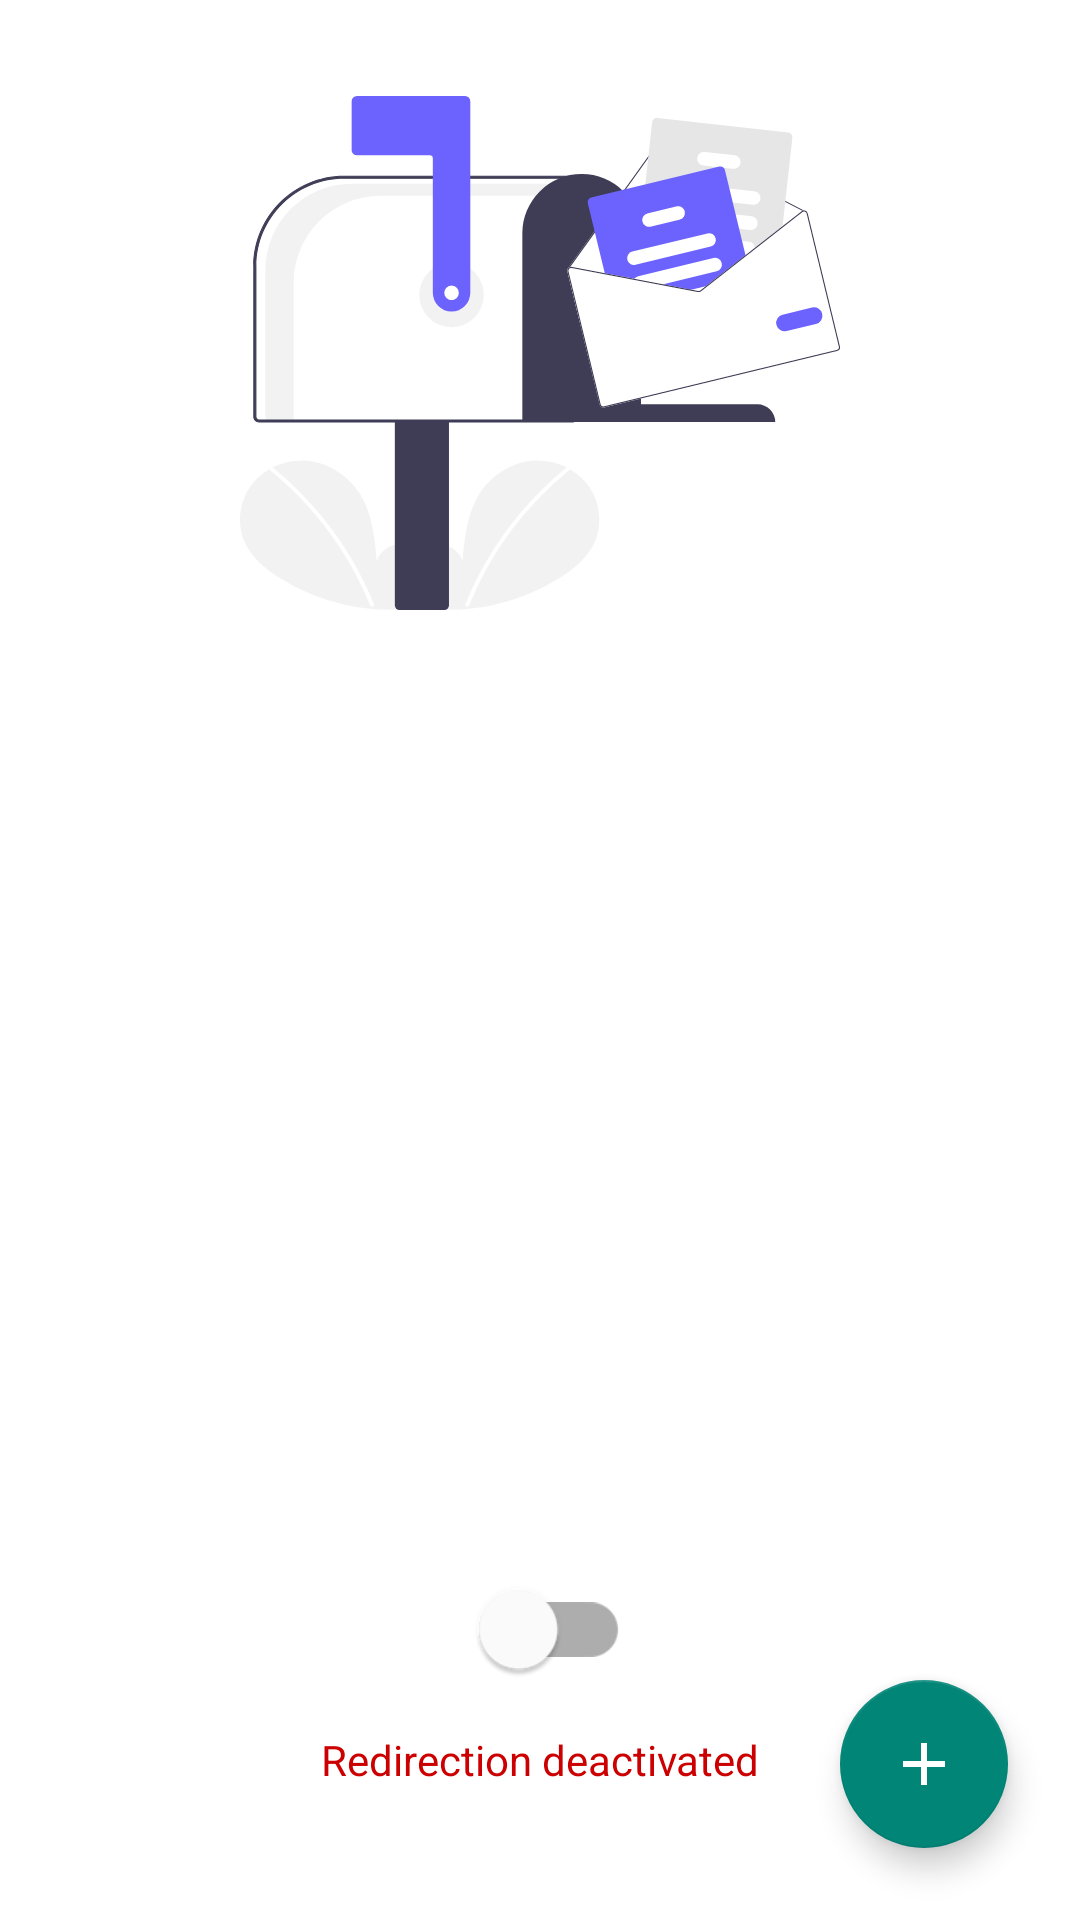

Icon bounding boxes for this 1080 × 1920 phone screenshot, format Rect(x1, y1, x2, y2):
Add a redirection button: Rect(840, 1680, 1008, 1848)
